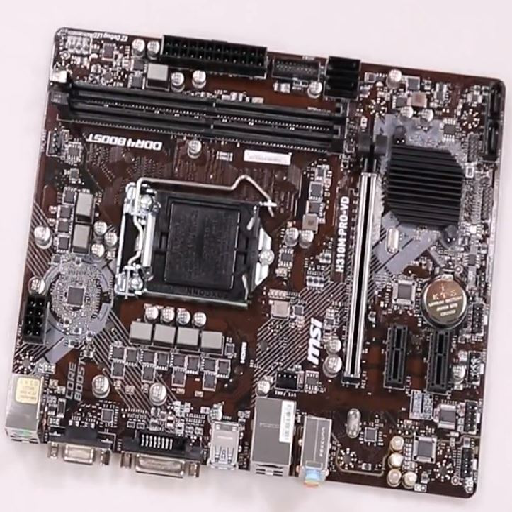CPU: (112, 174, 279, 313)
GPU: (341, 133, 386, 386)
MOTHERBOARD: (4, 25, 502, 496)
RAM: (51, 69, 347, 156)
SSD: (273, 367, 324, 393)
